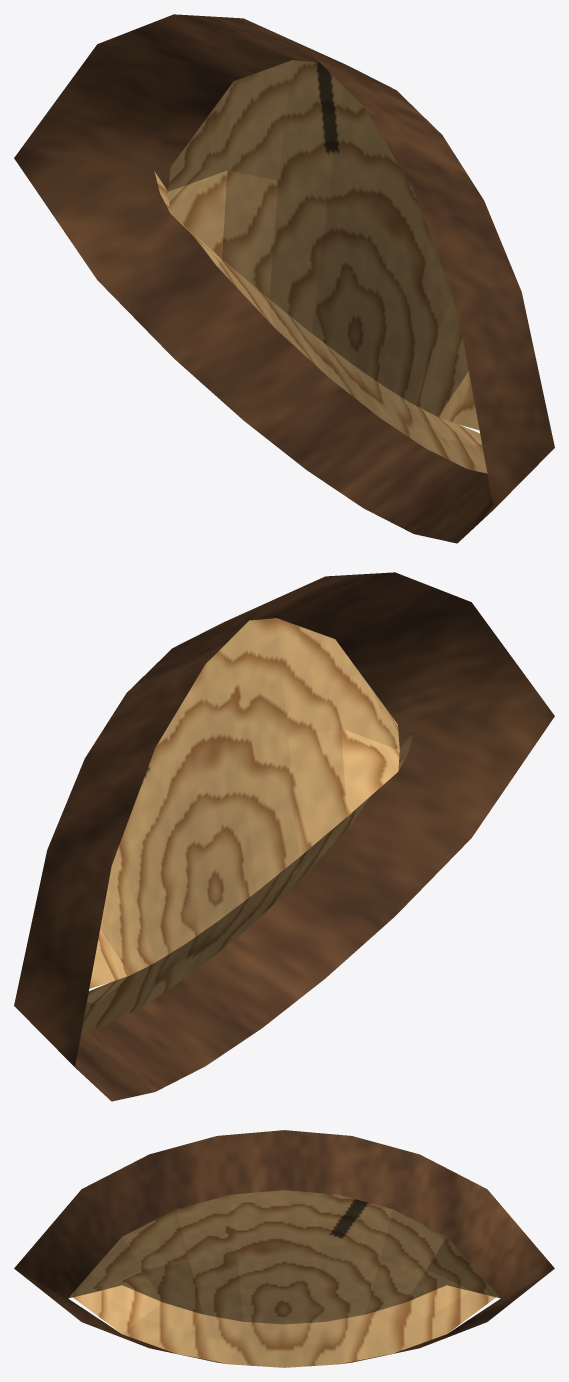
Rendered from cut_wedge_1.glb.
3 views of the same model, one above another, from view 1: azimuth 30°, elevation 25°; view 2: azimuth 150°, elevation 25°; view 3: azimuth 270°, elevation 25° (orthographic). The views are drawn at different scales.
Parts seen in each view (by area): view 1: cut_wedge_1; view 2: cut_wedge_1; view 3: cut_wedge_1.
Boxes of the visible parts, box(x1,y1,x2,y2) form: cut_wedge_1: box(14, 14, 554, 543); cut_wedge_1: box(14, 572, 554, 1101); cut_wedge_1: box(14, 1130, 554, 1367).
Size of the model in its own units: 0.0858 by 0.2418 by 0.5.
2 materials, 2 textured.
